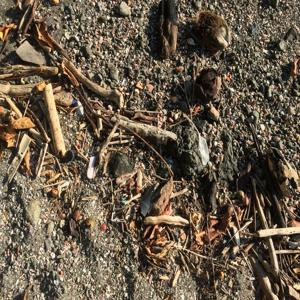metal: (208, 103, 228, 133), (73, 102, 83, 118)
